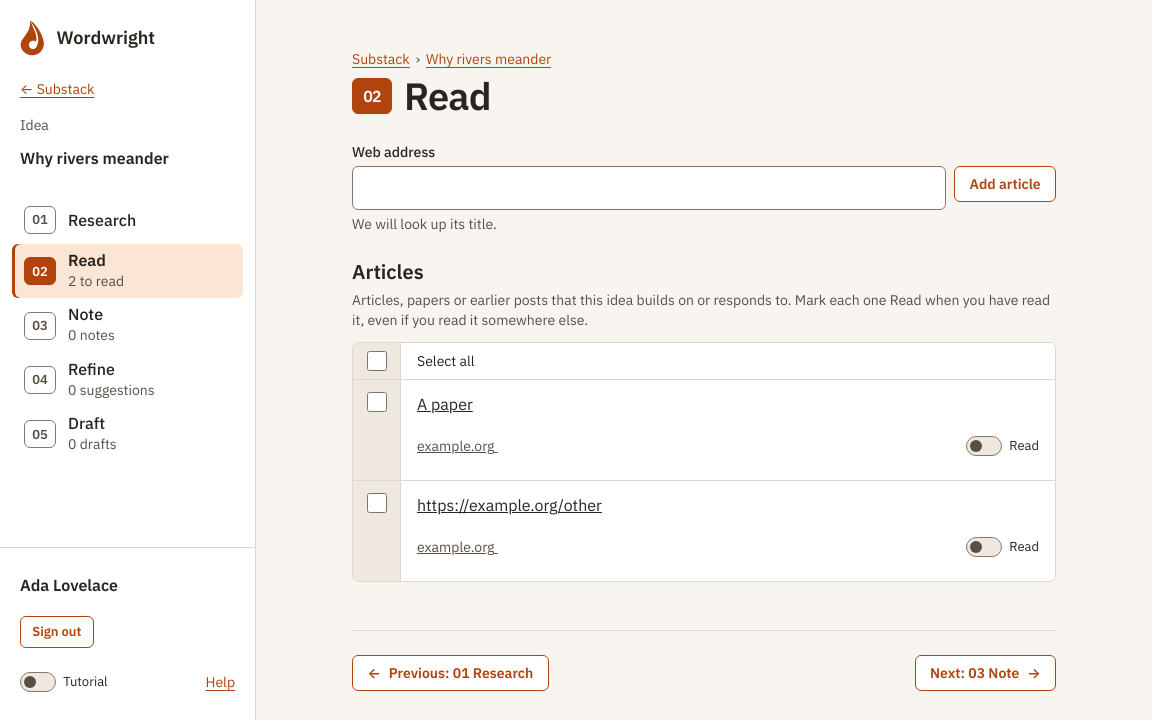
Scenario: reading page › moves items from an idea to the publication’s articles or another idea, never to itself or a new idea
Click the checkbox named "Select A paper" at (376, 402), box [366,392,386,412]
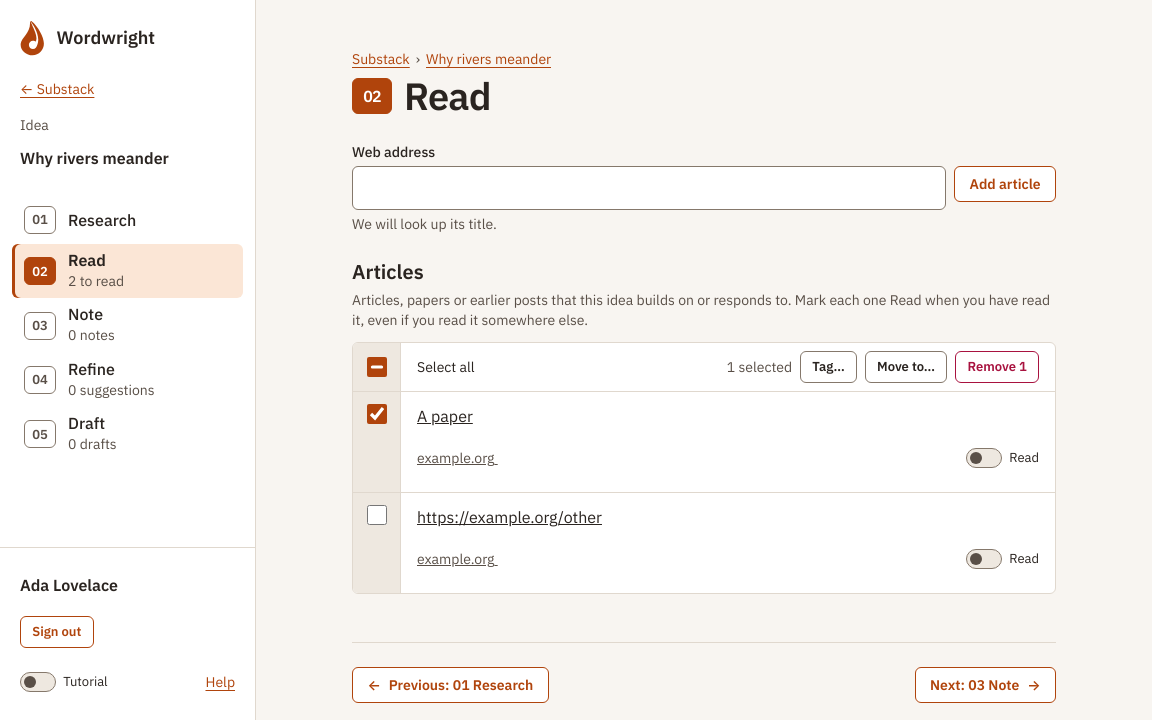
Click the button "Move to…" at (906, 367), box [865,351,947,383]
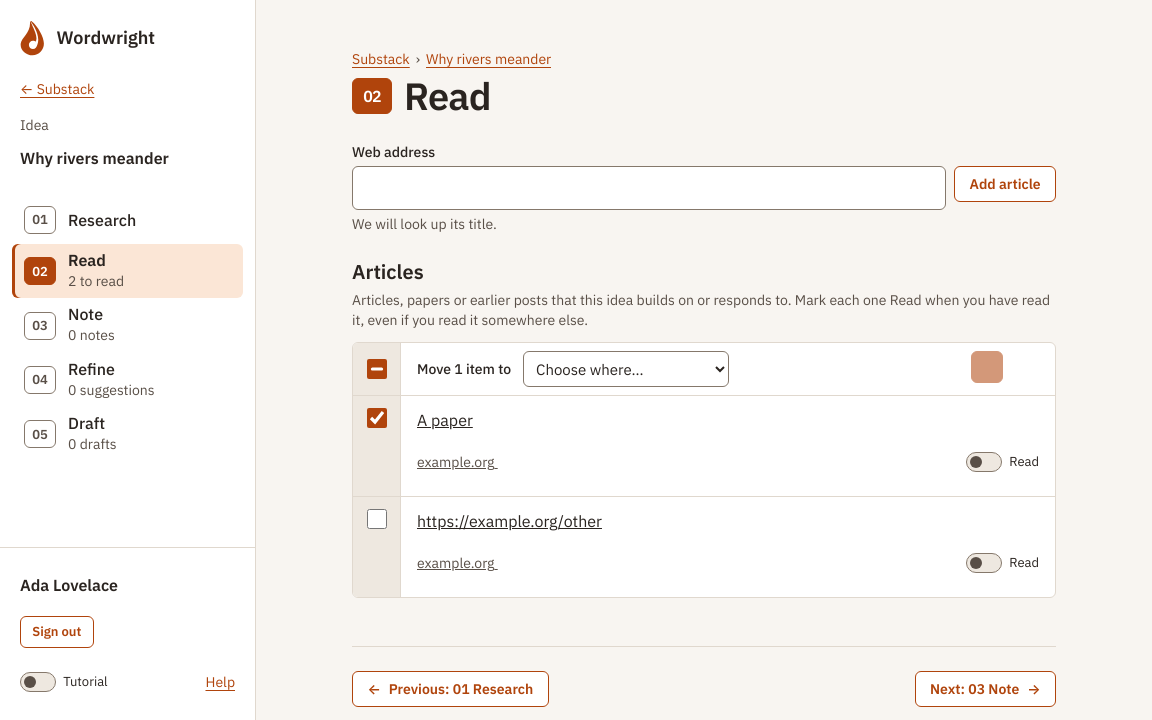
Select "The publication’s articles" in the dropdown labelled "Move 1 item to" at (626, 369), box [523,351,729,387]
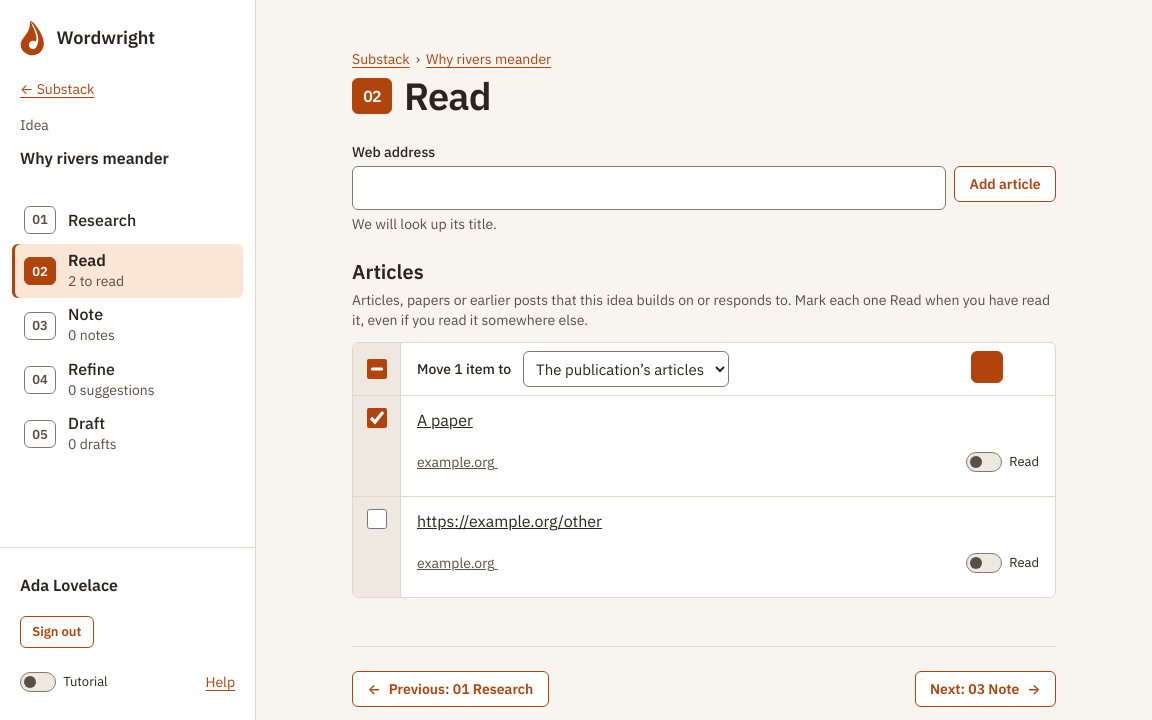
Click the button named "Move 1 item" at (987, 367), box [971,351,1003,383]
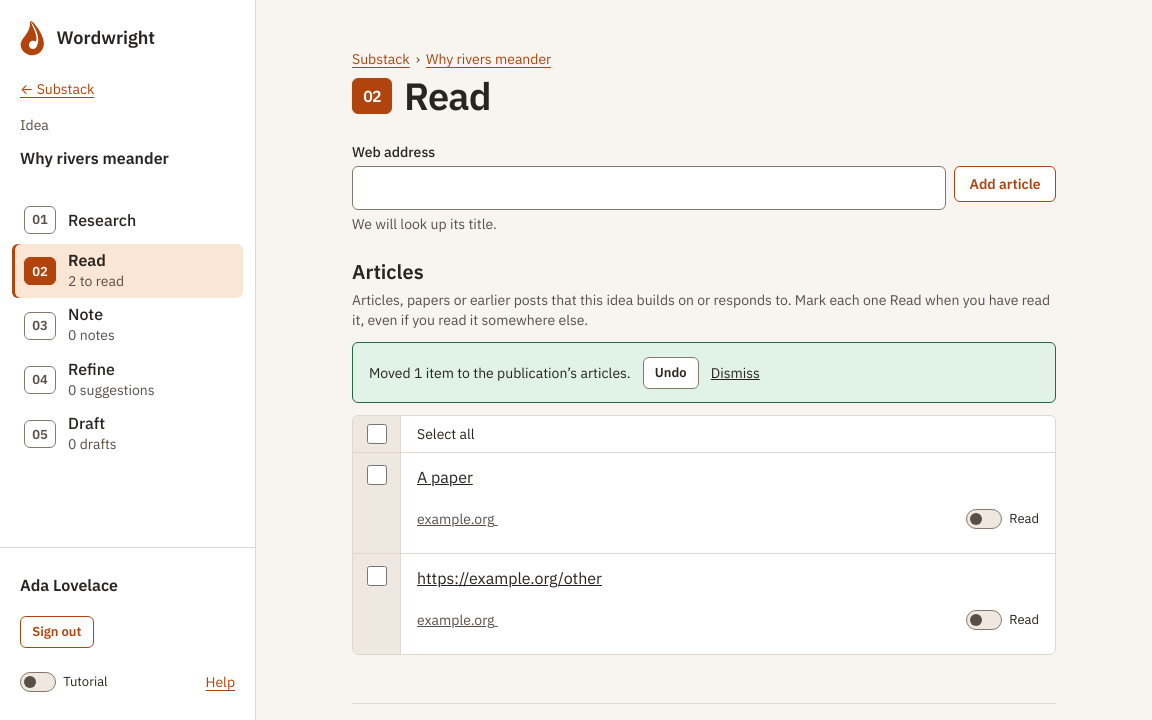
Expected: the text "Moved 1 item to the publication’s articles." is shown, [369,363,631,383]
